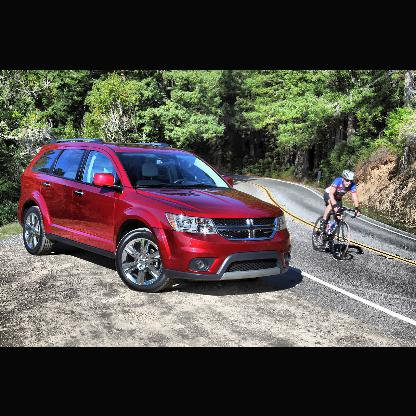Dodge Journey SUV 2012: (20, 138, 293, 292)
